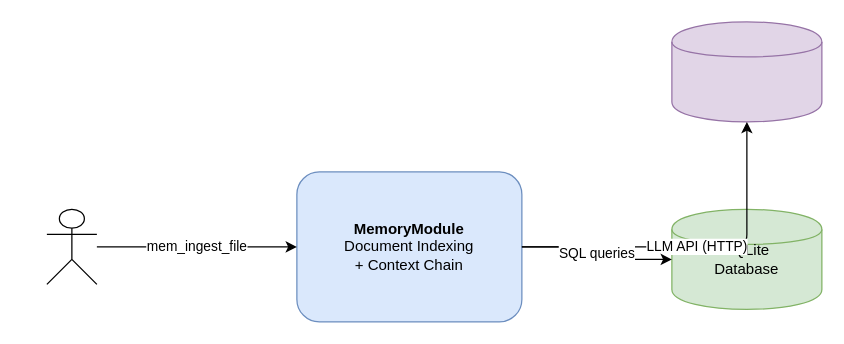
The diagram is 844 pixels wide and 344 high, and some of its shapes have lost their labels. The centre of each missing label's shape, as x and y in pixels:
"LLM Backend (LM Studio)" belongs at (x=746, y=71).
"User / AI Agent" belongs at (x=71, y=246).
